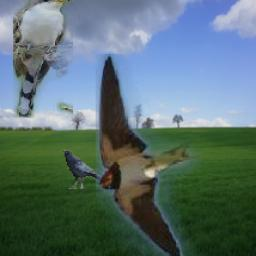Crow: (62, 150, 104, 190)
Cuckoo: (13, 0, 73, 118)
Swallow: (96, 55, 230, 256)
